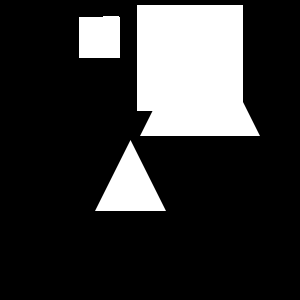circle: (137, 5, 243, 111), (79, 17, 120, 58), (103, 16, 119, 32)
triangle: (140, 16, 260, 136), (95, 140, 166, 211)
